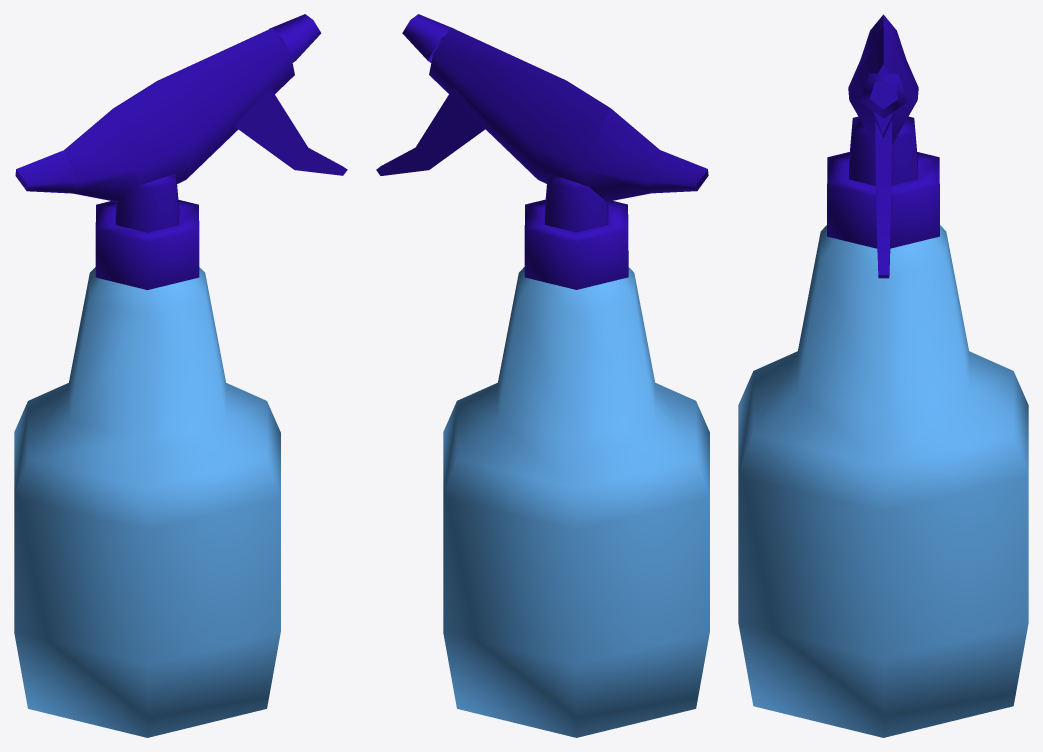
The model's file is PushPush_01.fbx.
3 views of the same model, side by side, from view 1: azimuth 30°, elevation 25°; view 2: azimuth 150°, elevation 25°; view 3: azimuth 270°, elevation 25° (orthographic). The views are drawn at different scales.
Parts seen in each view (by area): view 1: PushPush_01; view 2: PushPush_01; view 3: PushPush_01.
Part boxes in pixels (left/top/right/bottom): PushPush_01: left=14, top=14, right=347, bottom=737; PushPush_01: left=376, top=14, right=709, bottom=737; PushPush_01: left=738, top=14, right=1028, bottom=737.
Bounding box in the file's own units: 5.33 × 9.59 × 3.72.
Materials: 1 (1 with a texture image).
